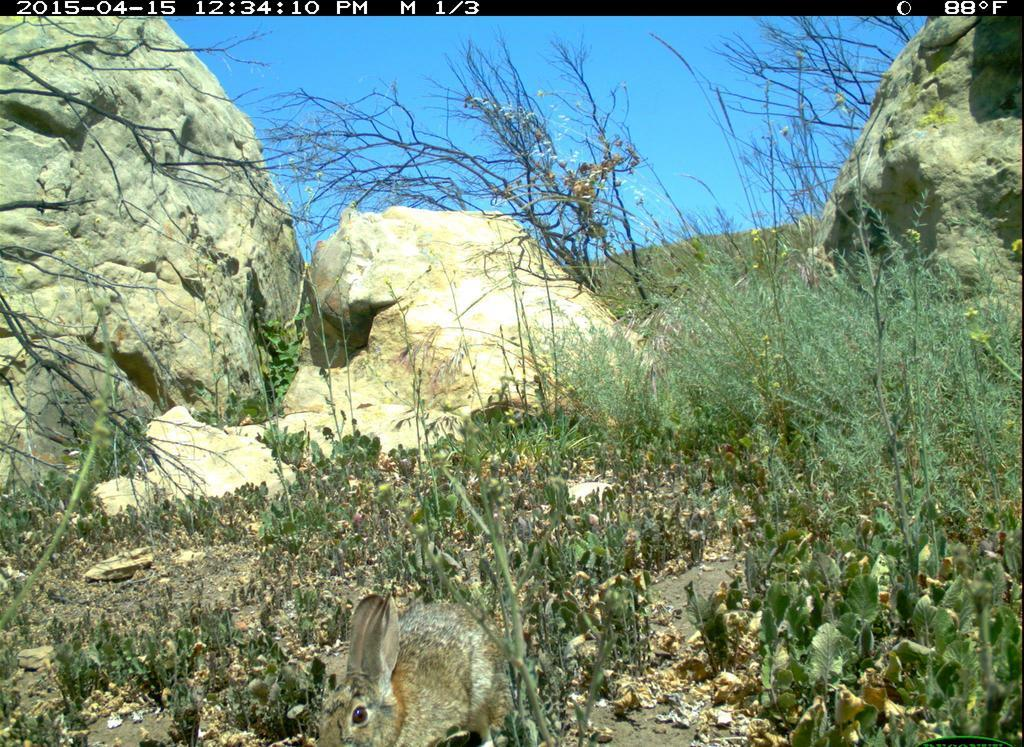rabbit: (318, 587, 520, 739)
